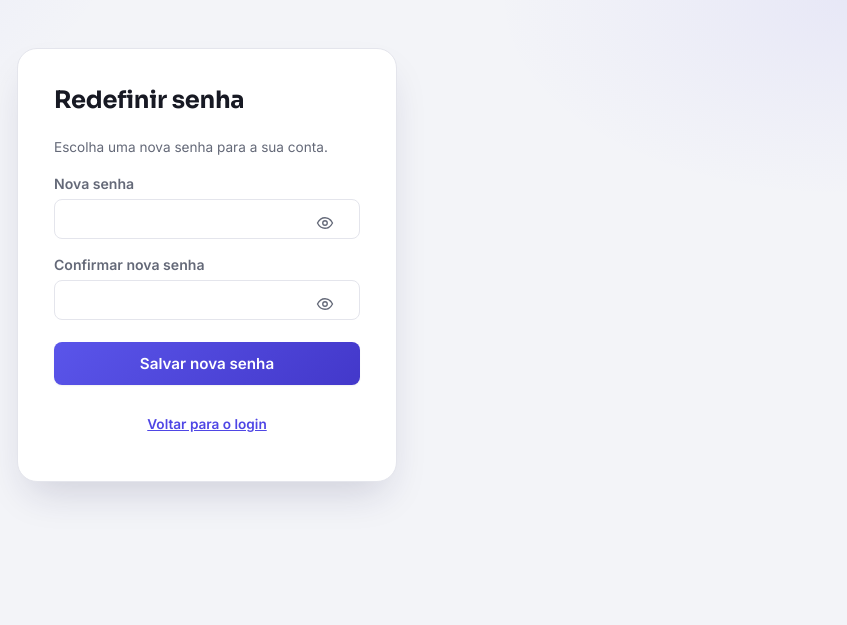
Scenario: ResetPasswordPage › token inválido/expirado: mostra a mensagem de erro do backend
Type "novaSenha123" into the password field labelled "Nova senha" at x=207, y=219, box [54,199,360,239]
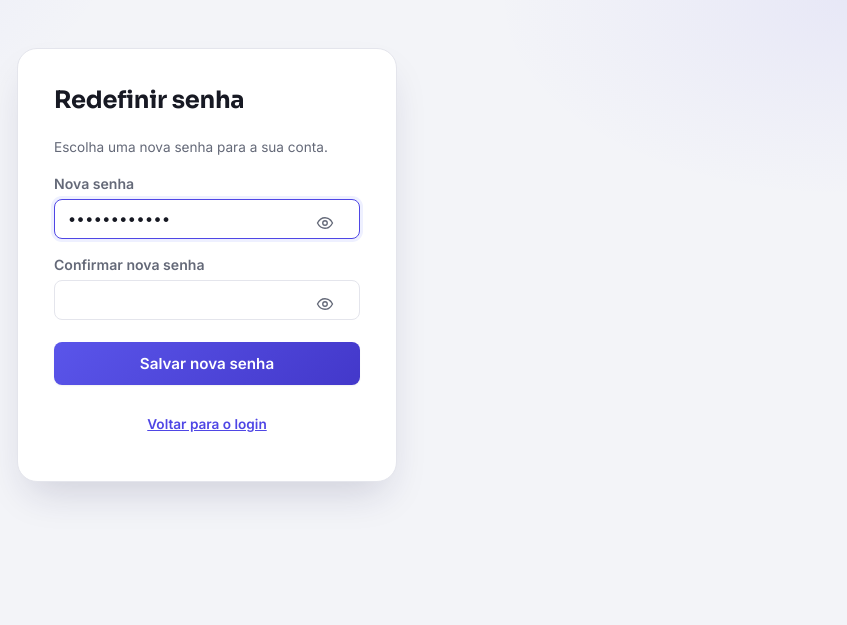
Type "novaSenha123" into the password field labelled "Confirmar nova senha" at x=207, y=300, box [54,280,360,320]
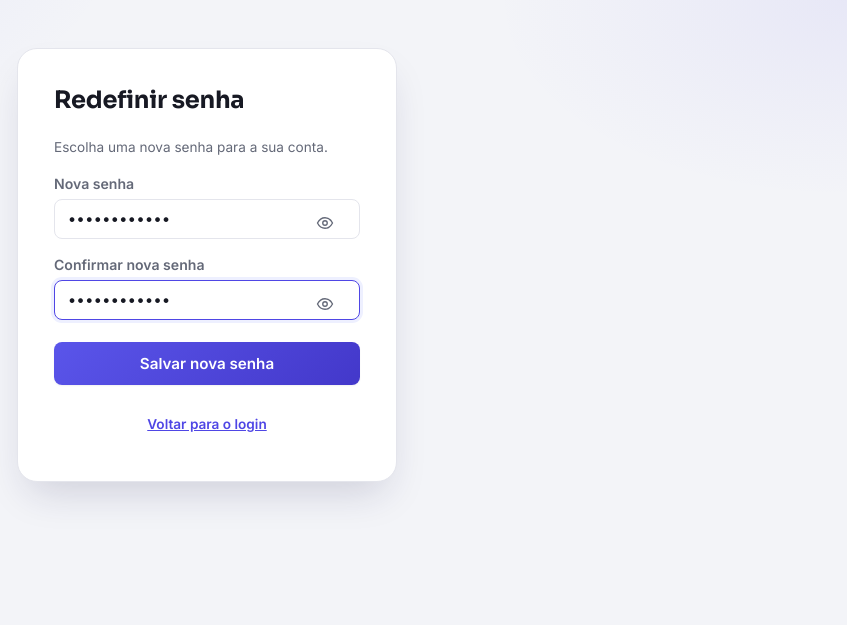
Click the button "Salvar nova senha" at x=207, y=363, box [54,342,360,385]
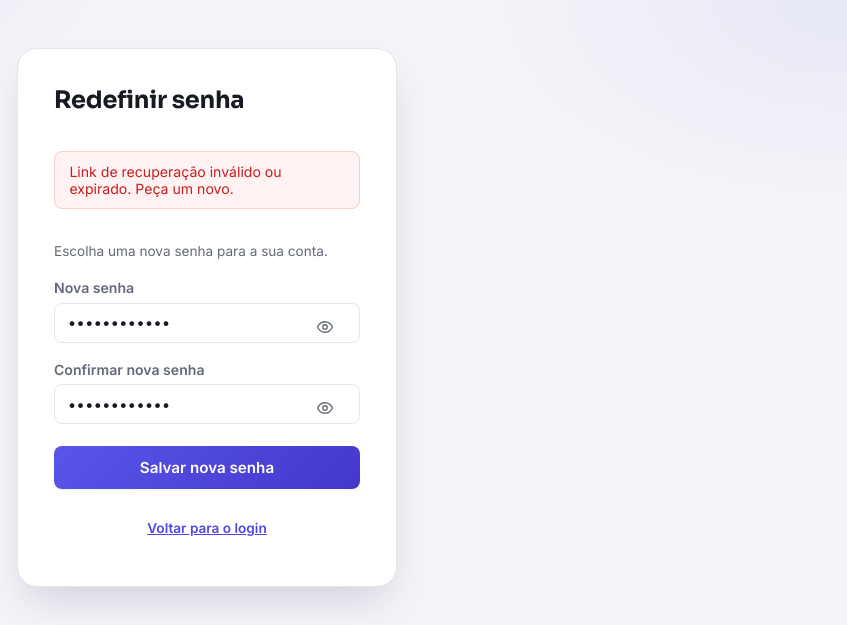
Expected: the text "Link de recuperação inválido ou expirado. Peça um novo." is shown, [54,151,360,209]
